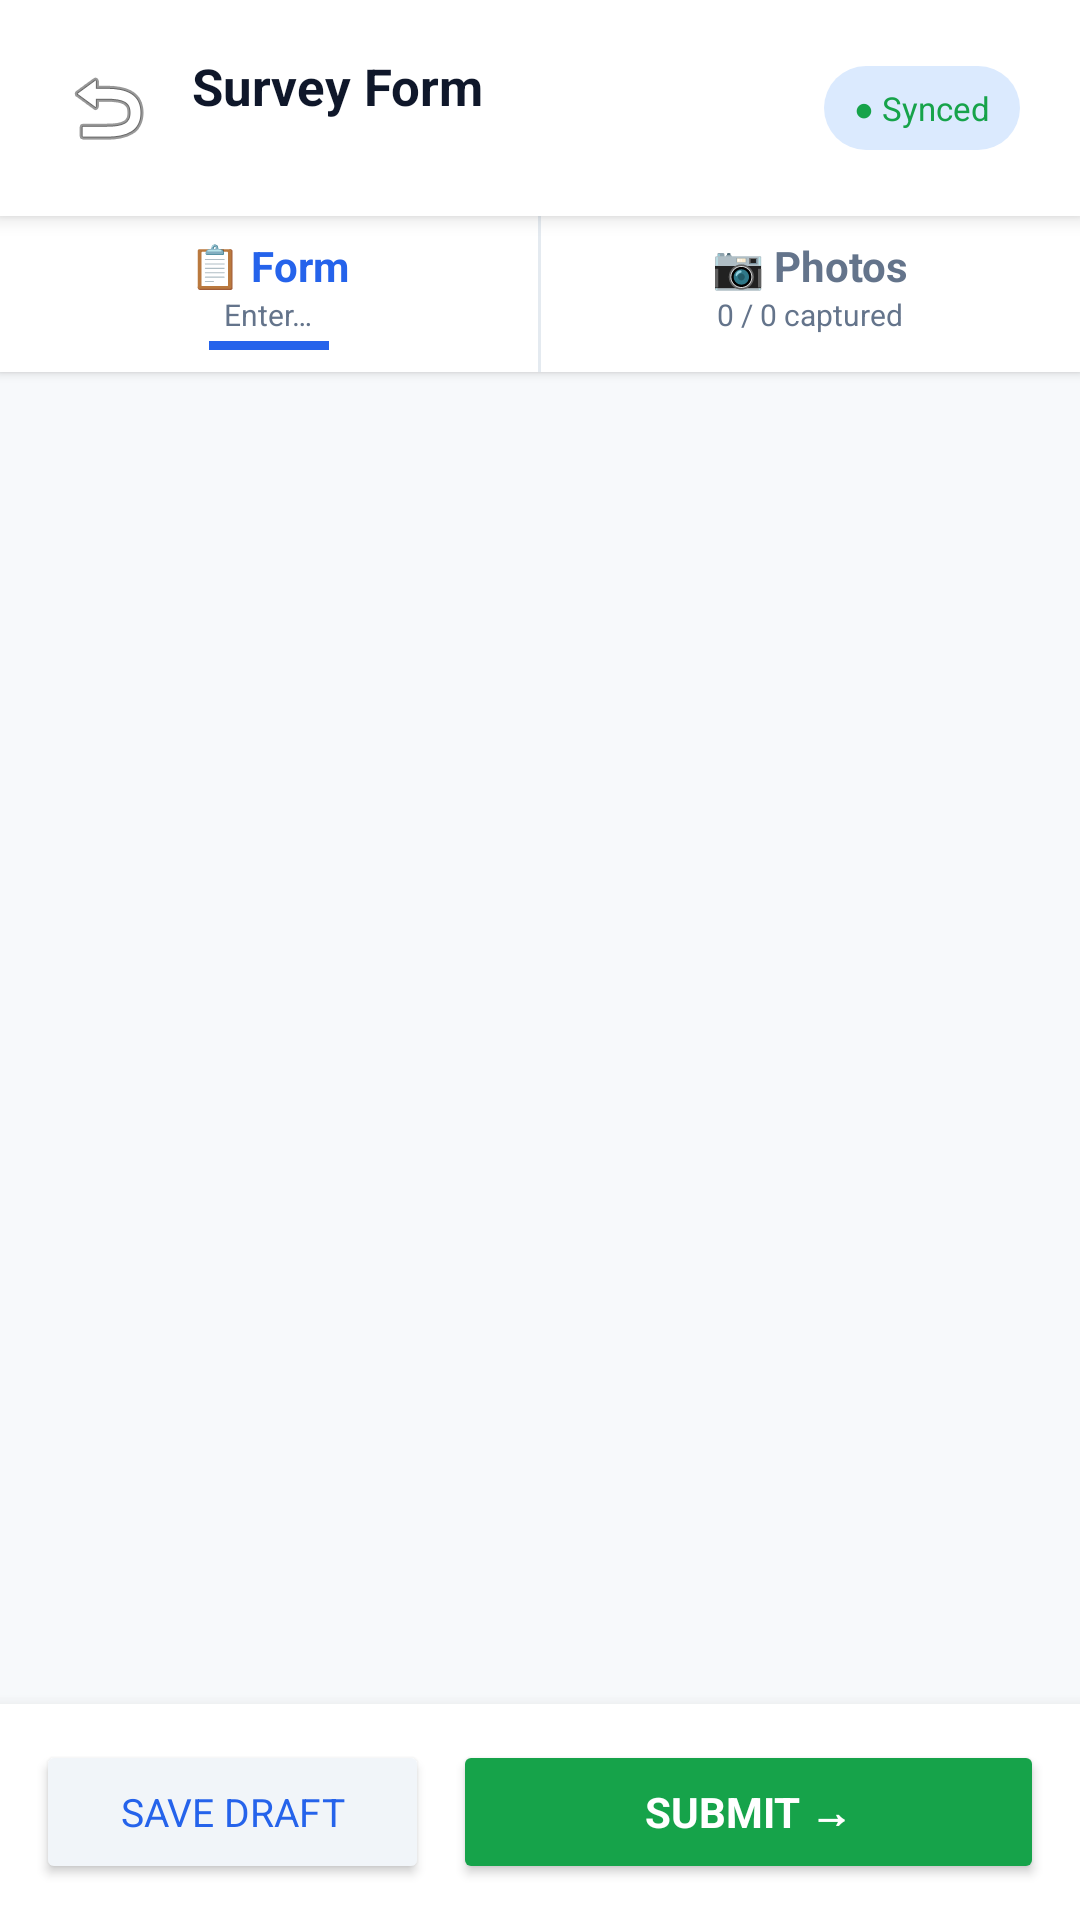

Icons on this 1080 x 1920 Android screen, each with the point to tap as point (x, y):
Back: point (109, 108)
